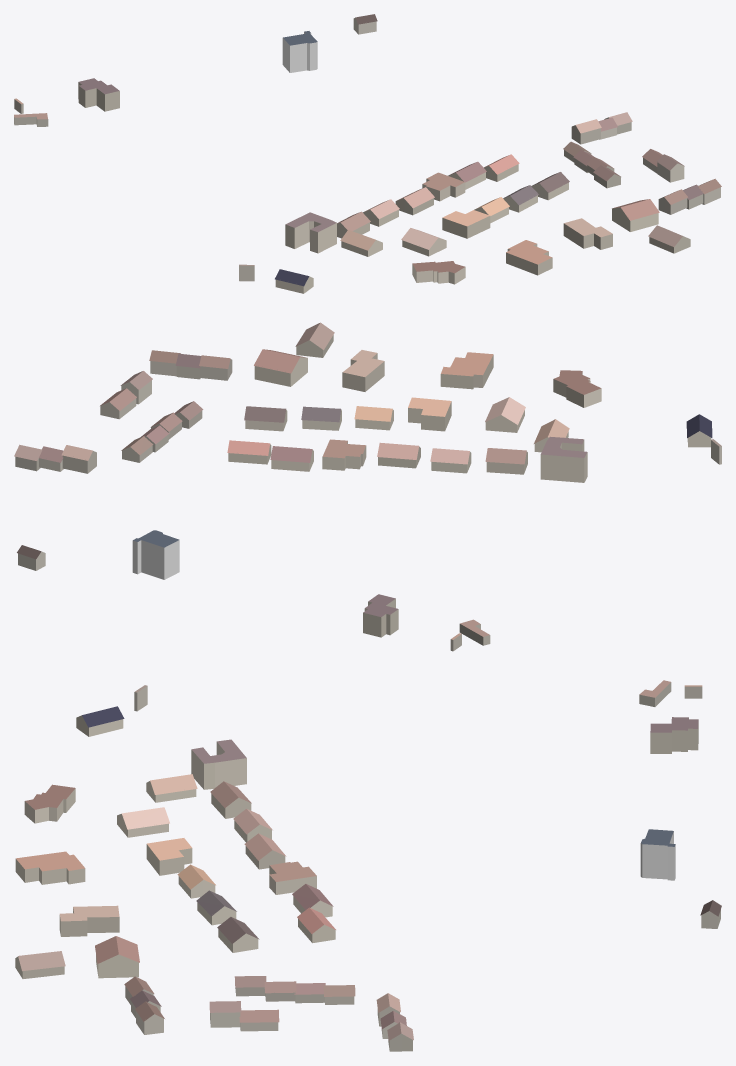
3 renders of one model, top to bottom at view 1: azimuth 30°, elevation 25°; view 2: azimuth 150°, elevation 25°; view 3: azimuth 270°, elevation 25°, orthographic. The views are drawn at different scales.
Visible parts, largest first — view 1: tuile; view 2: tuile; view 3: tuile.
Boxes of the visible parts, left/top/right/bottom form: tuile: left=14, top=14, right=721, bottom=293; tuile: left=14, top=322, right=721, bottom=651; tuile: left=15, top=680, right=721, bottom=1051.
Size of the model in its own units: 262 by 32.33 by 257.
